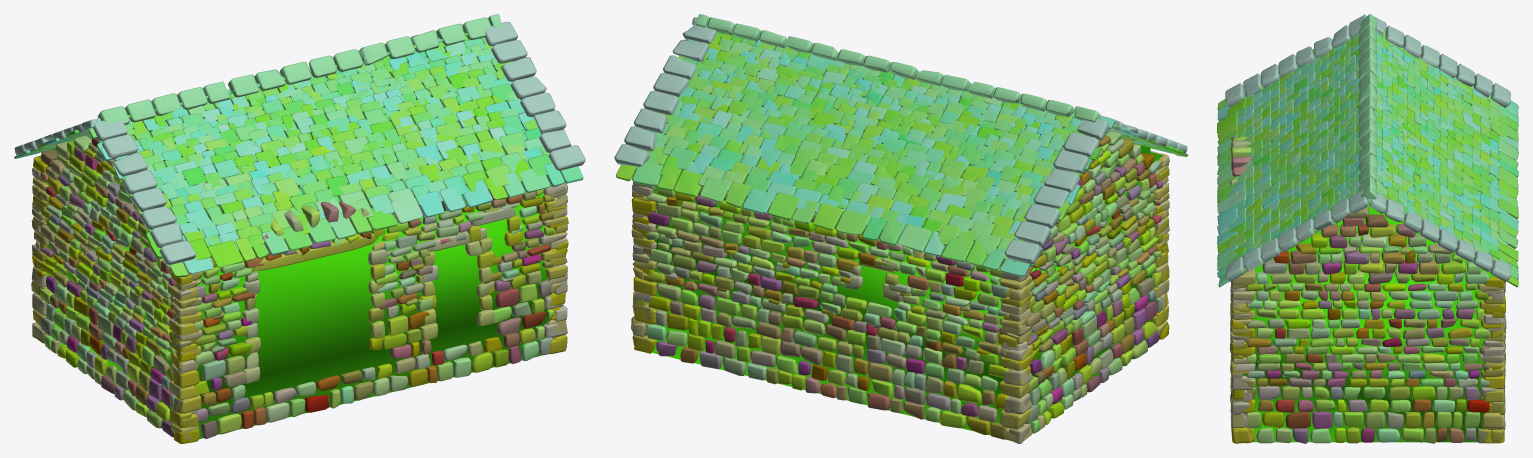
File: SM_Barn_01.glb
The picture shows the model from 3 angles, left to right: view 1: azimuth 30°, elevation 25°; view 2: azimuth 150°, elevation 25°; view 3: azimuth 270°, elevation 25°; orthographic projection. The views are drawn at different scales.
Parts seen in each view (by area): view 1: SM_Barn_01; view 2: SM_Barn_01; view 3: SM_Barn_01.
Boxes of the visible parts, left/top/right/bottom form: SM_Barn_01: left=14, top=14, right=585, bottom=443; SM_Barn_01: left=614, top=14, right=1188, bottom=443; SM_Barn_01: left=1217, top=14, right=1518, bottom=443.
Size of the model in its own units: 9.78 by 6.21 by 6.61.
